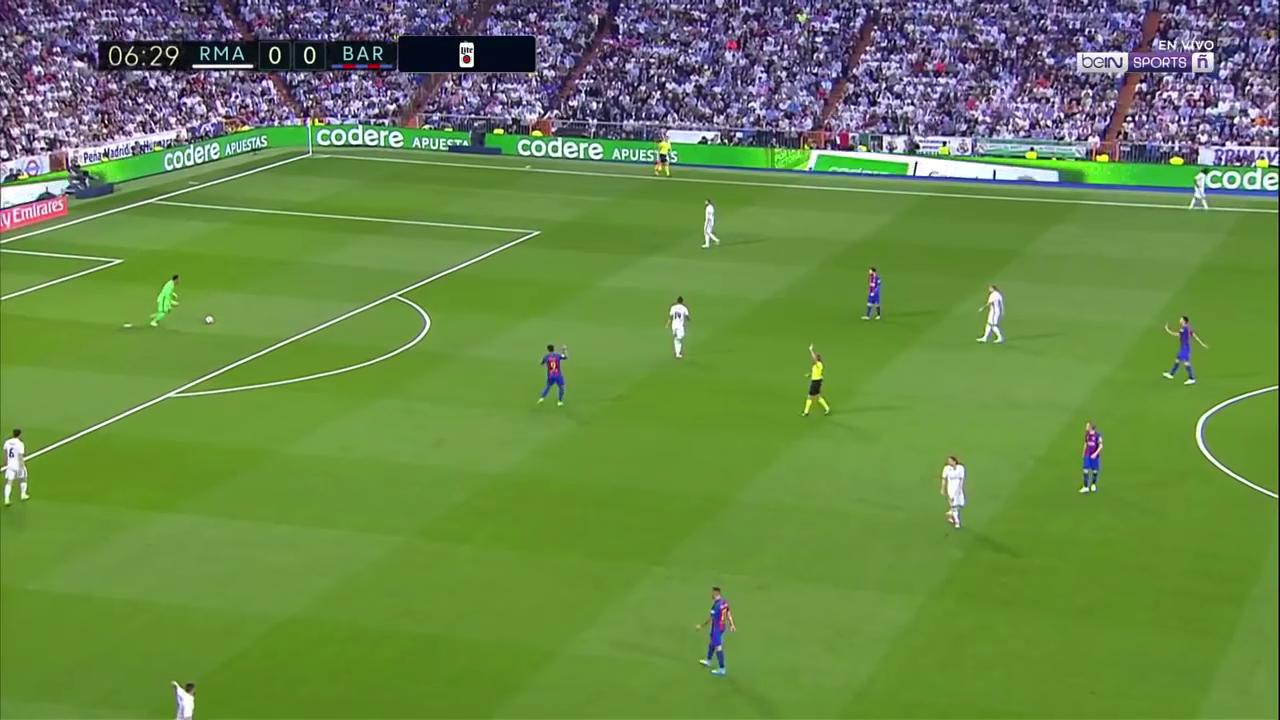ball: (202, 314, 216, 326)
goalie: (147, 272, 187, 326)
player: (693, 578, 742, 682), (1160, 314, 1212, 389), (937, 456, 969, 532), (971, 283, 1007, 345), (1, 428, 27, 506), (538, 344, 569, 408), (1079, 418, 1103, 495), (665, 294, 693, 359), (164, 677, 201, 720), (860, 263, 882, 322), (698, 197, 721, 249), (1188, 169, 1209, 213)
referee: (801, 340, 831, 413)
